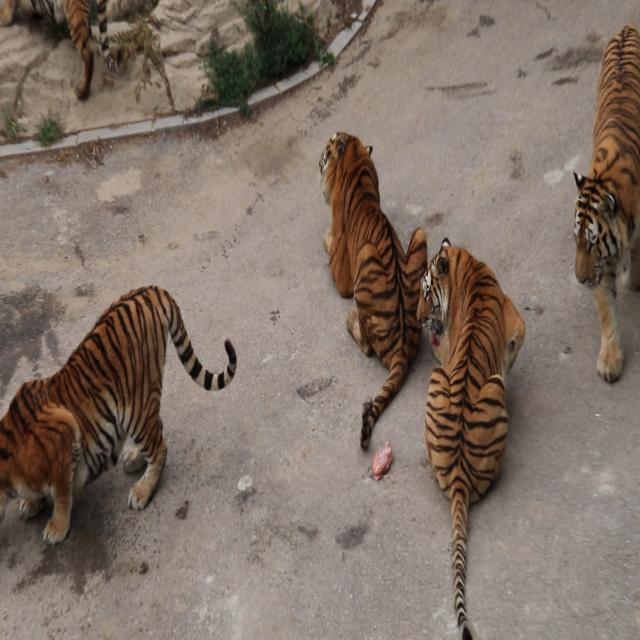Tiger: (0, 283, 237, 543), (416, 236, 527, 639), (318, 130, 428, 453), (570, 20, 640, 389), (0, 1, 130, 103)
